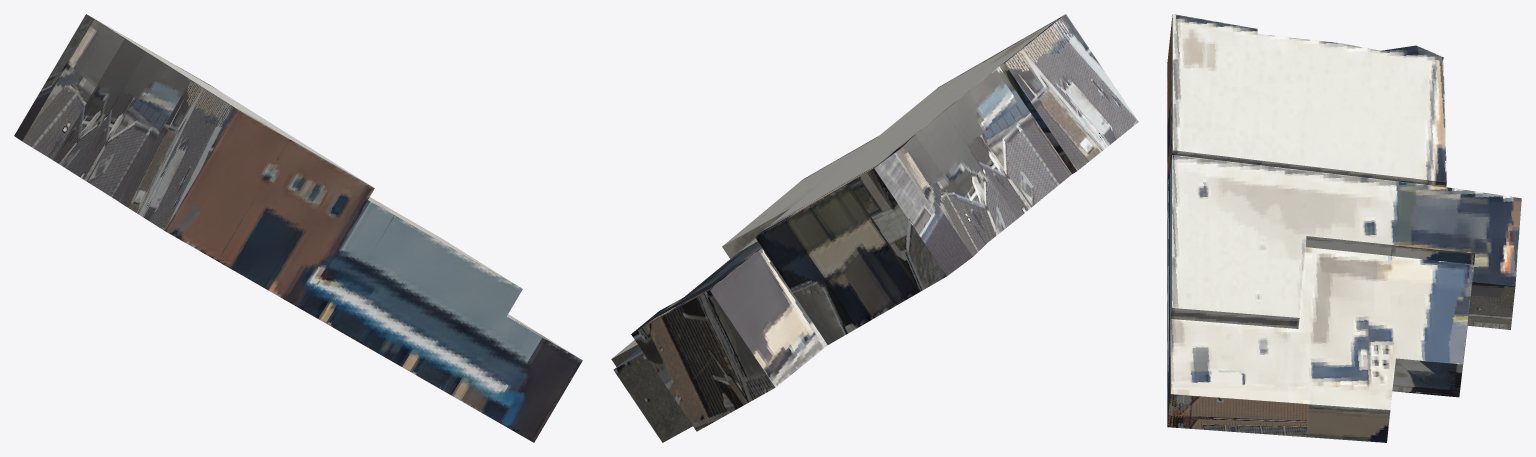
3 renders of one model, left to right at view 1: azimuth 30°, elevation 25°; view 2: azimuth 150°, elevation 25°; view 3: azimuth 270°, elevation 25°, orthographic. The views are drawn at different scales.
Visible parts, largest first — view 1: BAG_0599100000760489 (×5); view 2: BAG_0599100000760489 (×5); view 3: BAG_0599100000760489 (×5).
Part boxes in pixels (x1=…): BAG_0599100000760489 (×5): x1=14, y1=14, x2=582, y2=442; BAG_0599100000760489 (×5): x1=611, y1=14, x2=1138, y2=442; BAG_0599100000760489 (×5): x1=1167, y1=14, x2=1521, y2=442.
Bounding box in the file's own units: 26.87 × 25.56 × 25.73.
1 material, 1 textured.
